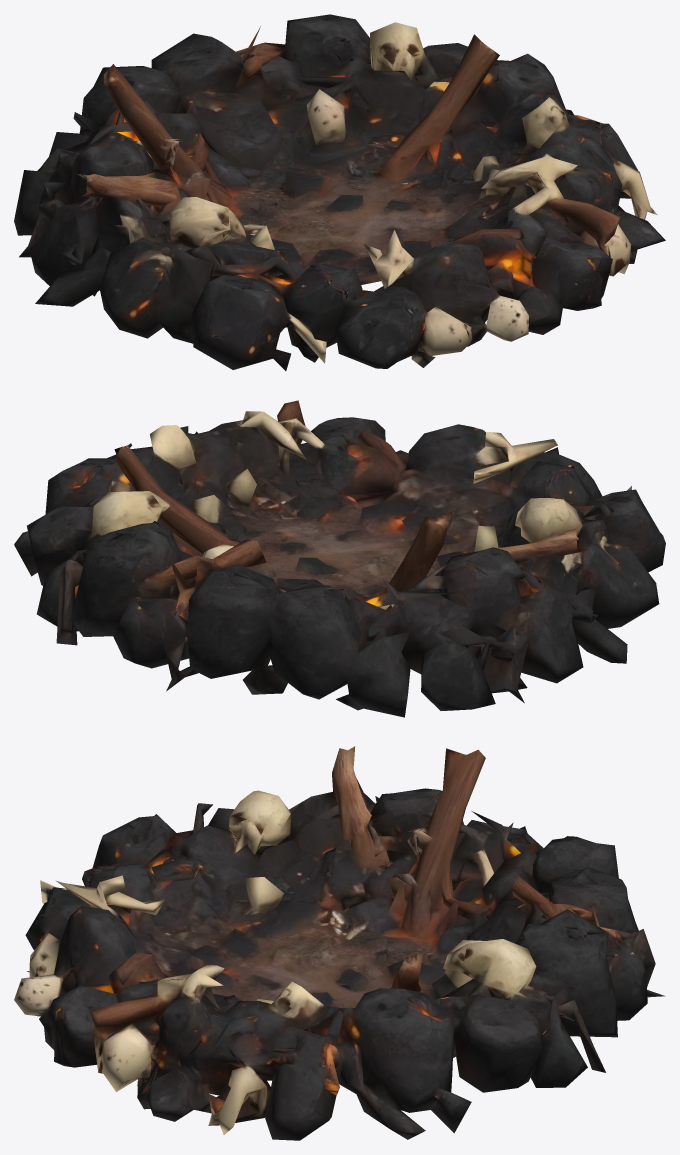
The model's file is dragon_nest.glb.
The picture shows the model from 3 angles, top to bottom: view 1: azimuth 30°, elevation 25°; view 2: azimuth 150°, elevation 25°; view 3: azimuth 270°, elevation 25°; orthographic projection. The views are drawn at different scales.
Visible parts, largest first — view 1: tripo_node_b4748749-72d0-4c7e-8b12-3eb06ab7e0d7; view 2: tripo_node_b4748749-72d0-4c7e-8b12-3eb06ab7e0d7; view 3: tripo_node_b4748749-72d0-4c7e-8b12-3eb06ab7e0d7.
Boxes of the visible parts, left/top/right/bottom form: tripo_node_b4748749-72d0-4c7e-8b12-3eb06ab7e0d7: left=14, top=14, right=665, bottom=370; tripo_node_b4748749-72d0-4c7e-8b12-3eb06ab7e0d7: left=14, top=400, right=665, bottom=717; tripo_node_b4748749-72d0-4c7e-8b12-3eb06ab7e0d7: left=14, top=746, right=665, bottom=1140.
Size of the model in its own units: 0.9734 by 0.2791 by 0.9178.
1 material, 1 textured.
